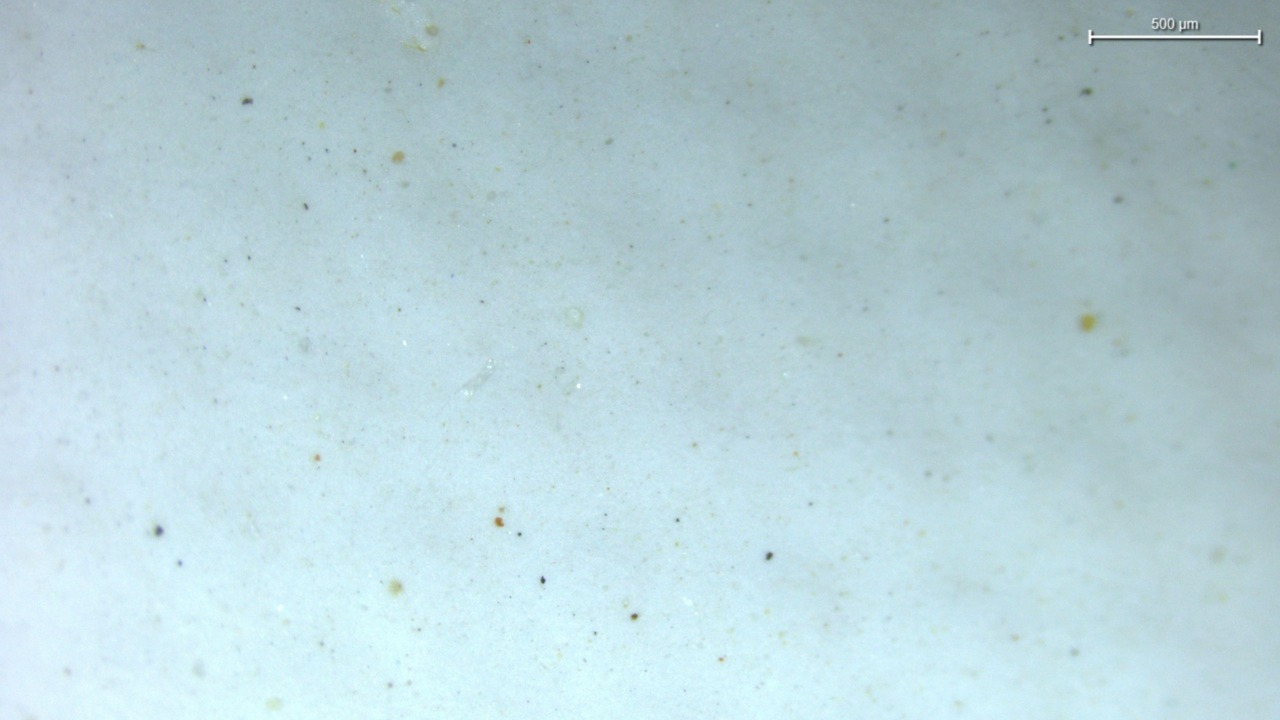microplastic_fragment: (457, 359, 496, 397)
